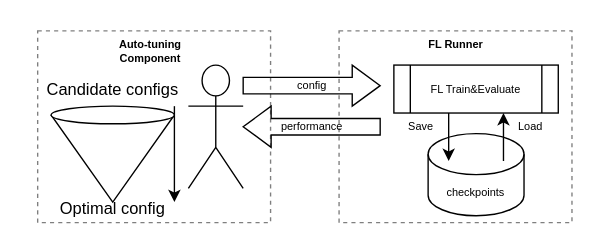
Some shapes in this 596 by 247 pixel diagram are drawn without their labels. Each missing label, with the centre of its shape:
HPO Agent: the point at 215,126
HPO algorithm: the point at 112,153
